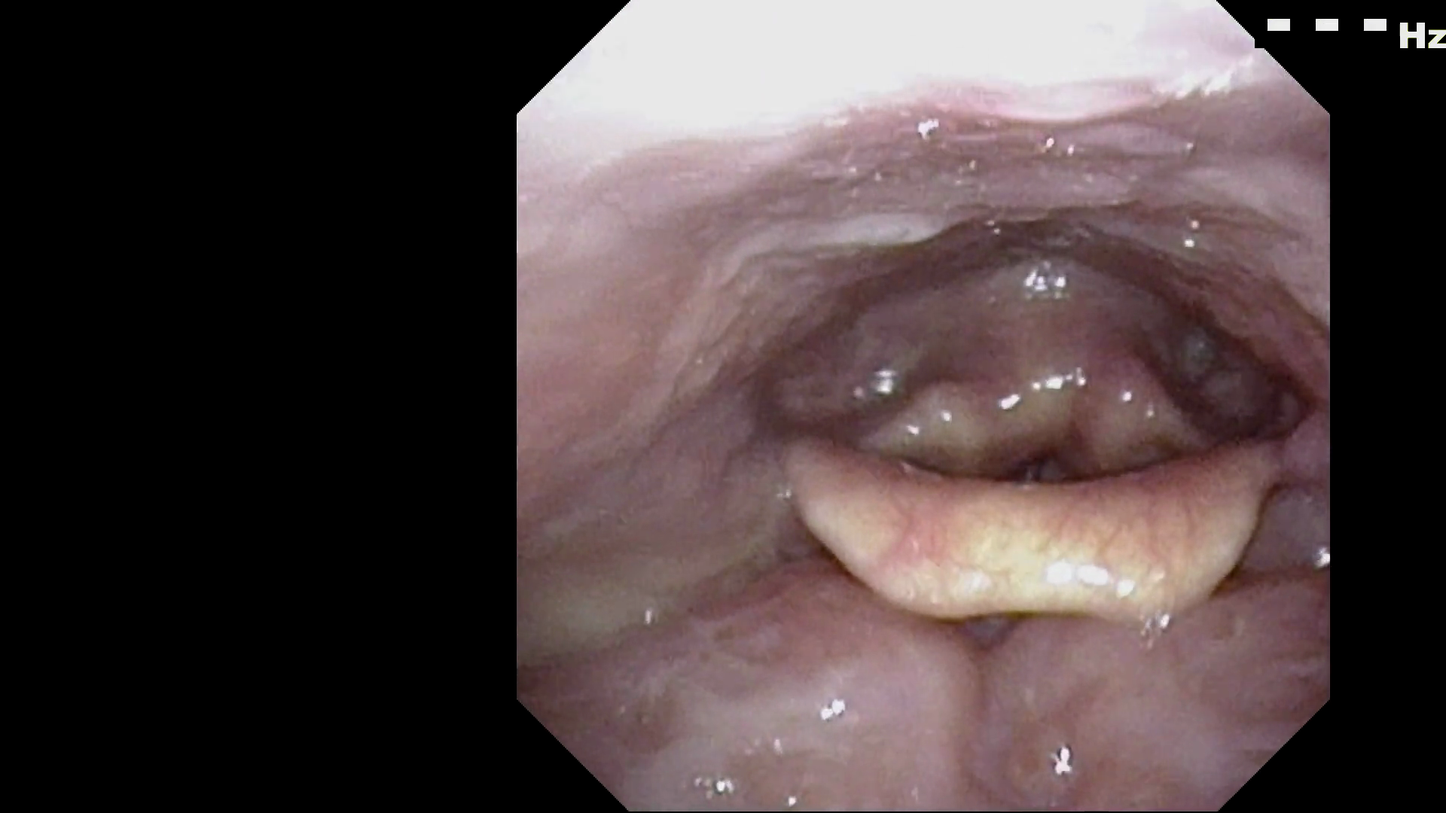epiglottis: (779, 402, 1304, 641)
trachea: (969, 389, 1116, 543)
